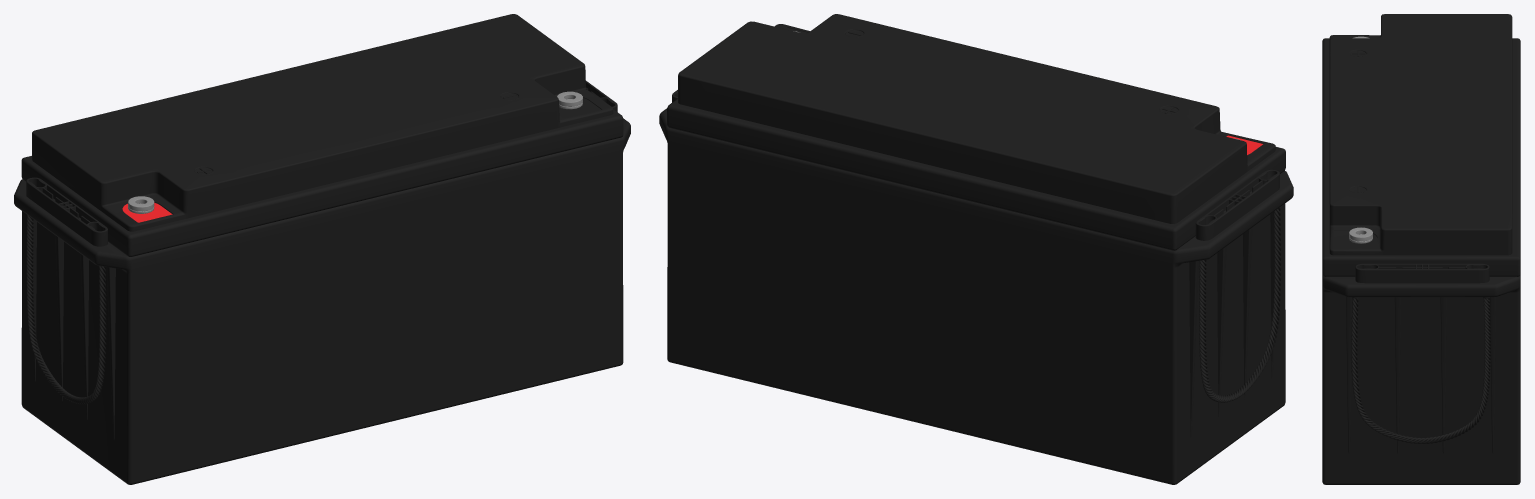
The model's file is 200-battery-no-heat.glb.
3 views of the same model, side by side, from view 1: azimuth 30°, elevation 25°; view 2: azimuth 150°, elevation 25°; view 3: azimuth 270°, elevation 25° (orthographic). The views are drawn at different scales.
Parts seen in each view (by area): view 1: battery_no_heat1; view 2: battery_no_heat1; view 3: battery_no_heat1.
Part boxes in pixels (x1=…): battery_no_heat1: x1=14, y1=14, x2=630, y2=484; battery_no_heat1: x1=659, y1=14, x2=1293, y2=484; battery_no_heat1: x1=1322, y1=14, x2=1520, y2=484.
Size of the model in its own units: 0.4823 by 0.2399 by 0.1697.
Materials: 1 (1 with a texture image).
